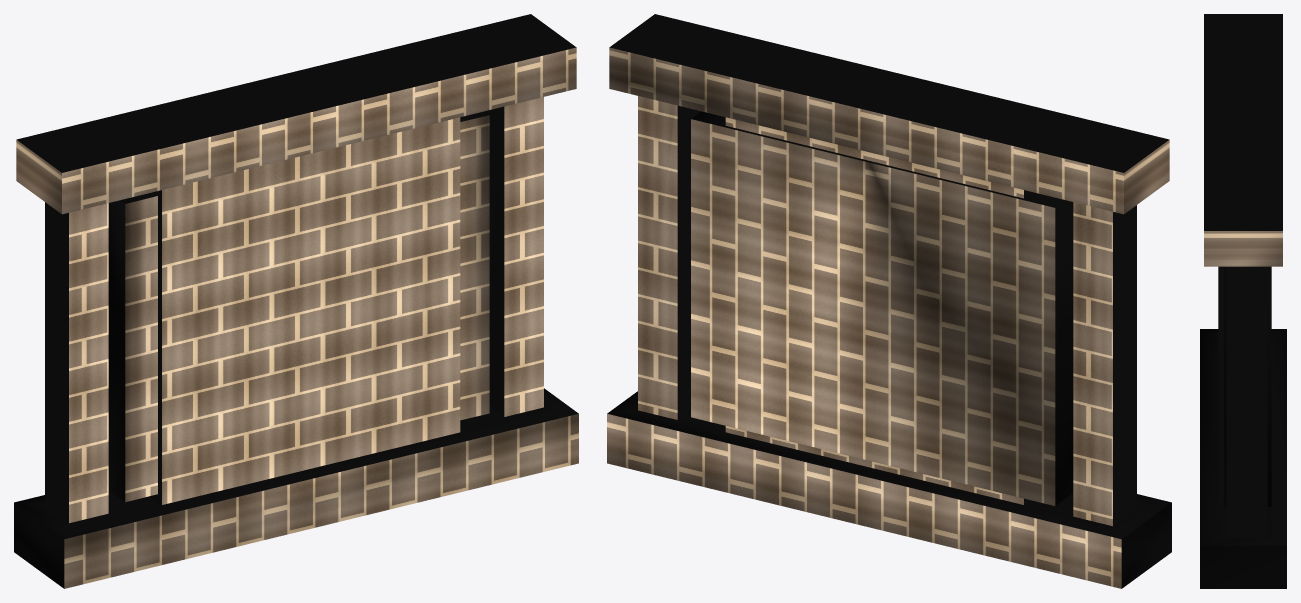
The model's file is garage-window-frame.glb.
3 views of the same model, side by side, from view 1: azimuth 30°, elevation 25°; view 2: azimuth 150°, elevation 25°; view 3: azimuth 270°, elevation 25° (orthographic). The views are drawn at different scales.
Visible parts, largest first — view 1: StileL; view 2: StileL; view 3: StileL.
Boxes of the visible parts, <box> form: StileL: <box>14,14,578,588</box>; StileL: <box>607,14,1171,588</box>; StileL: <box>1200,14,1286,588</box>.
Size of the model in its own units: 1.3 by 1 by 0.22.
1 material, 1 textured.
